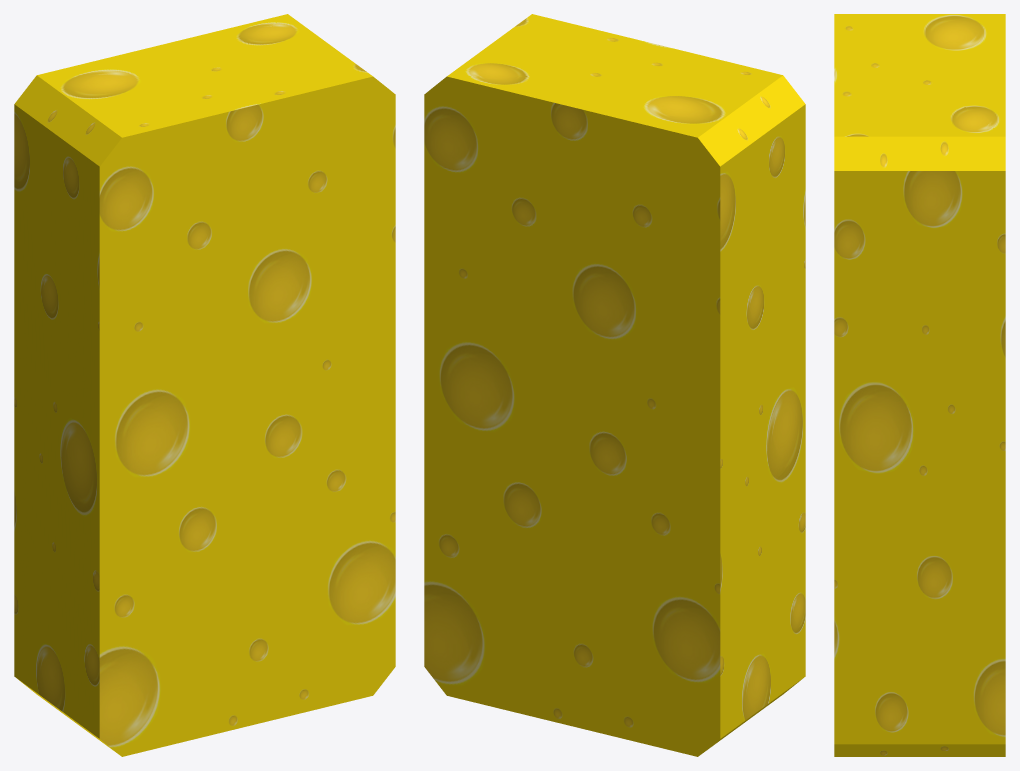
The model's file is Sponge.fbx.
3 renders of one model, left to right at view 1: azimuth 30°, elevation 25°; view 2: azimuth 150°, elevation 25°; view 3: azimuth 270°, elevation 25°, orthographic.
Parts seen in each view (by area): view 1: Cube; view 2: Cube; view 3: Cube.
Part boxes in pixels (x1,y1,x2,y2): Cube: [14, 14, 395, 756]; Cube: [424, 14, 805, 756]; Cube: [834, 14, 1005, 756].
Size of the model in its own units: 100 by 200 by 50.
